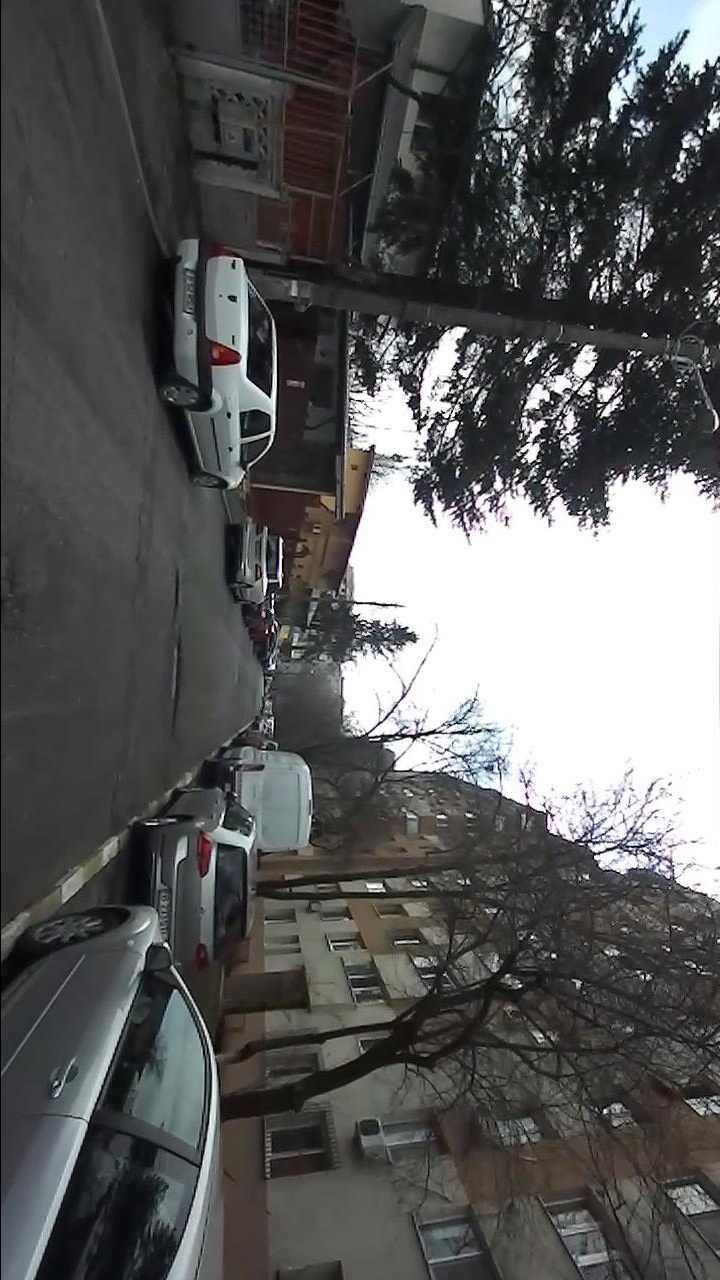pothole: (164, 630, 187, 736), (165, 563, 186, 616)
